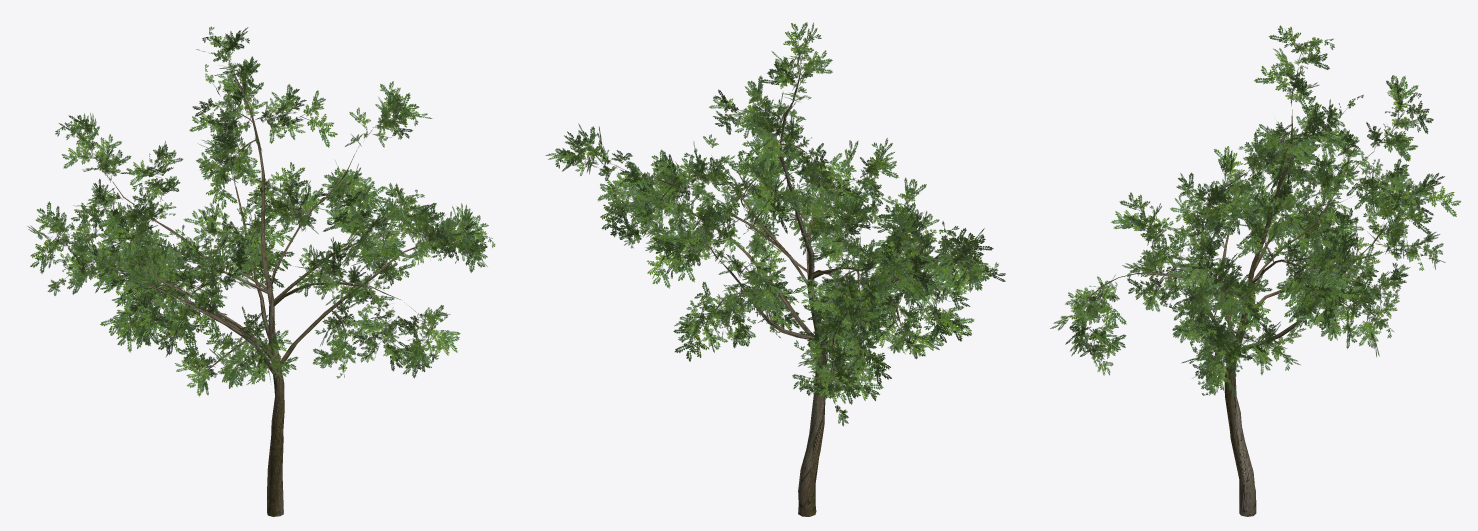
Rendered from Tree_Medium_C.glb.
The picture shows the model from 3 angles, left to right: view 1: azimuth 30°, elevation 25°; view 2: azimuth 150°, elevation 25°; view 3: azimuth 270°, elevation 25°; orthographic projection. The views are drawn at different scales.
Parts seen in each view (by area): view 1: Tree_Medium_C; view 2: Tree_Medium_C; view 3: Tree_Medium_C.
Part boxes in pixels (box(x1,y1,x2,y2)): Tree_Medium_C: box(27, 26, 495, 516); Tree_Medium_C: box(545, 22, 1005, 516); Tree_Medium_C: box(1050, 25, 1461, 516).
Bounding box in the file's own units: 4.49 × 5 × 3.92.
2 materials, 2 textured.
